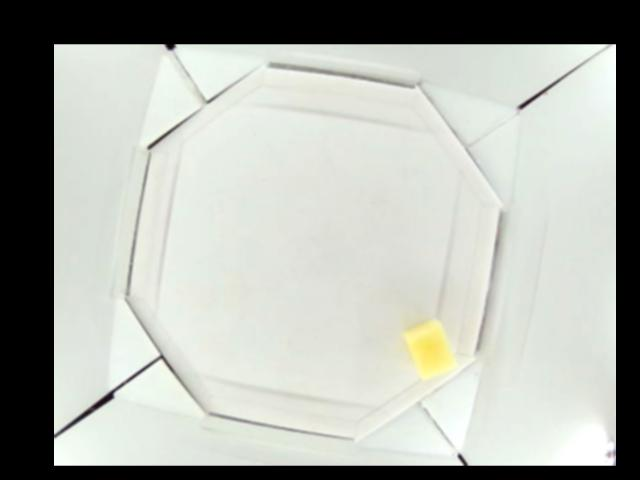Potato: (402, 320, 458, 383)
